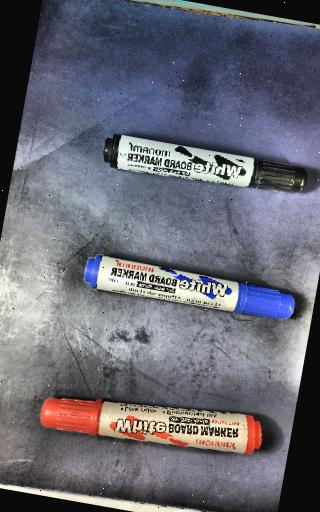marcador azul: (85, 254, 294, 318)
marcador negro: (104, 133, 306, 191)
marcador rojo: (41, 397, 261, 453)
